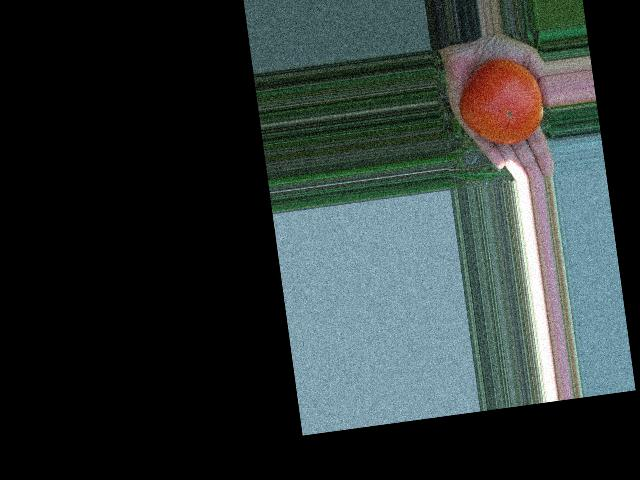tomato: (453, 54, 547, 150)
